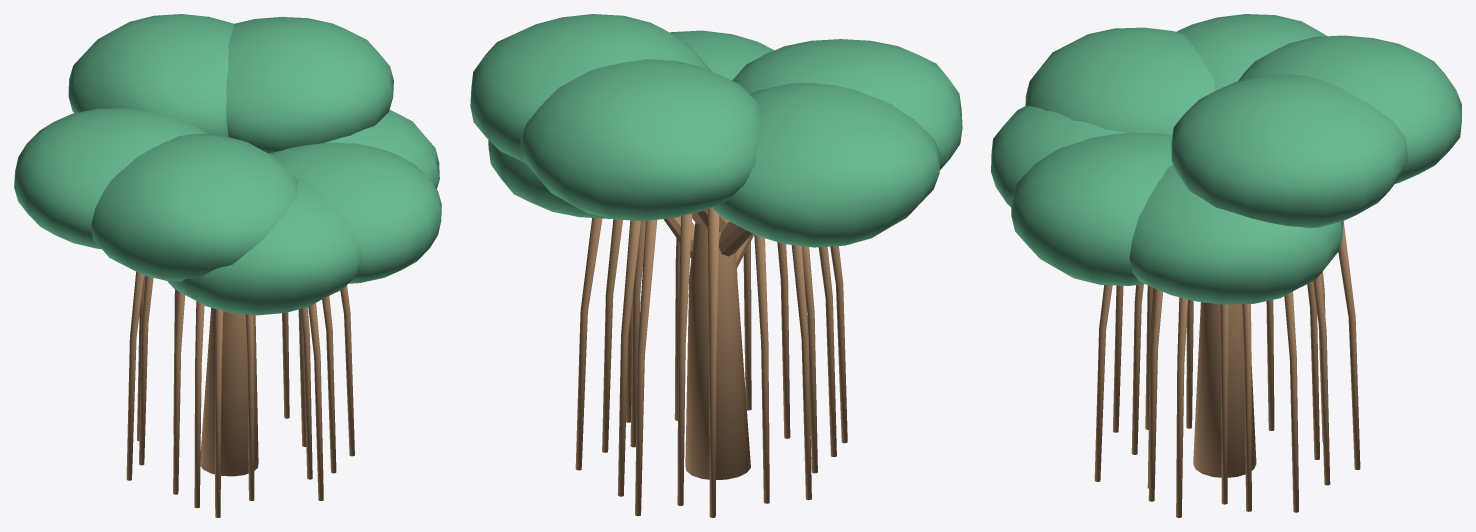
Rendered from strangler_fig_tropical_island_and_palm_trees_6816.glb.
The picture shows the model from 3 angles, left to right: view 1: azimuth 30°, elevation 25°; view 2: azimuth 150°, elevation 25°; view 3: azimuth 270°, elevation 25°; orthographic projection. The views are drawn at different scales.
Visible parts, largest first — view 1: strangler-fig; view 2: strangler-fig; view 3: strangler-fig.
Part boxes in pixels (x1=…): strangler-fig: x1=14, y1=14, x2=441, y2=517; strangler-fig: x1=470, y1=14, x2=962, y2=517; strangler-fig: x1=991, y1=14, x2=1461, y2=517.
Bounding box in the file's own units: 7.17 × 6.9 × 7.07.
